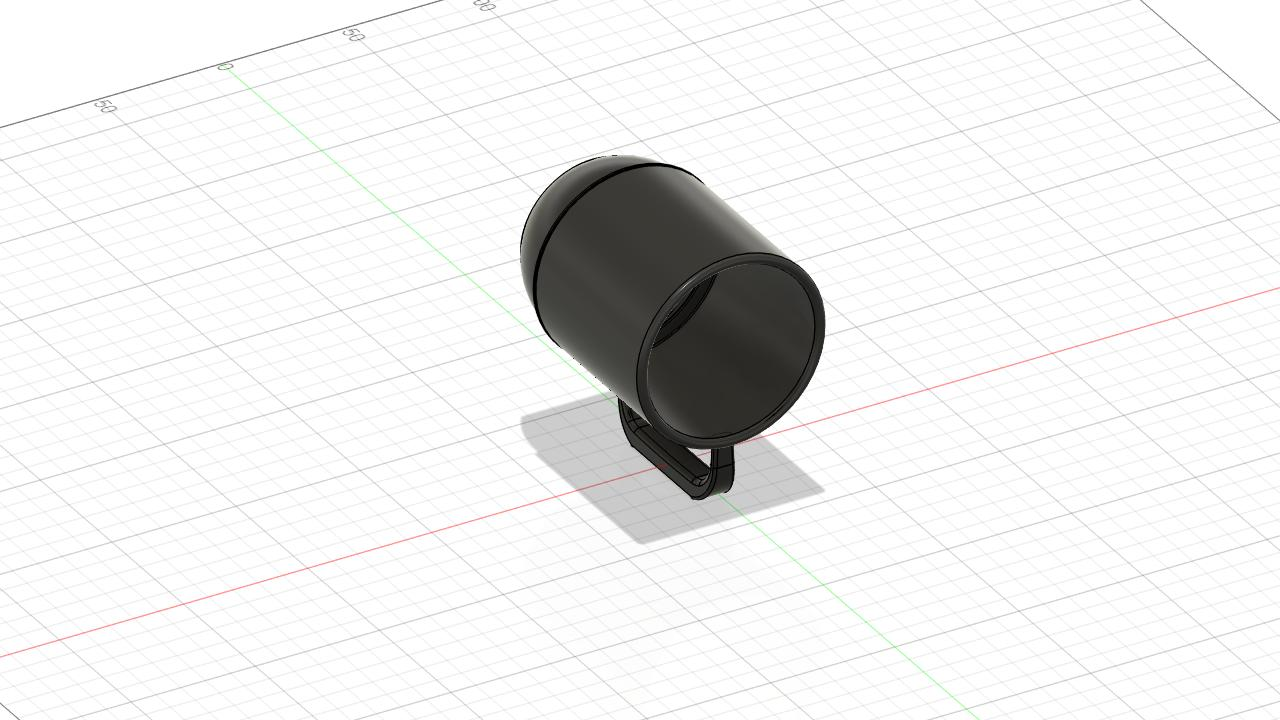mug-real100-3d100: (522, 156, 824, 499)
